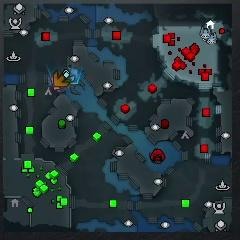x5: (52, 70, 70, 89)
